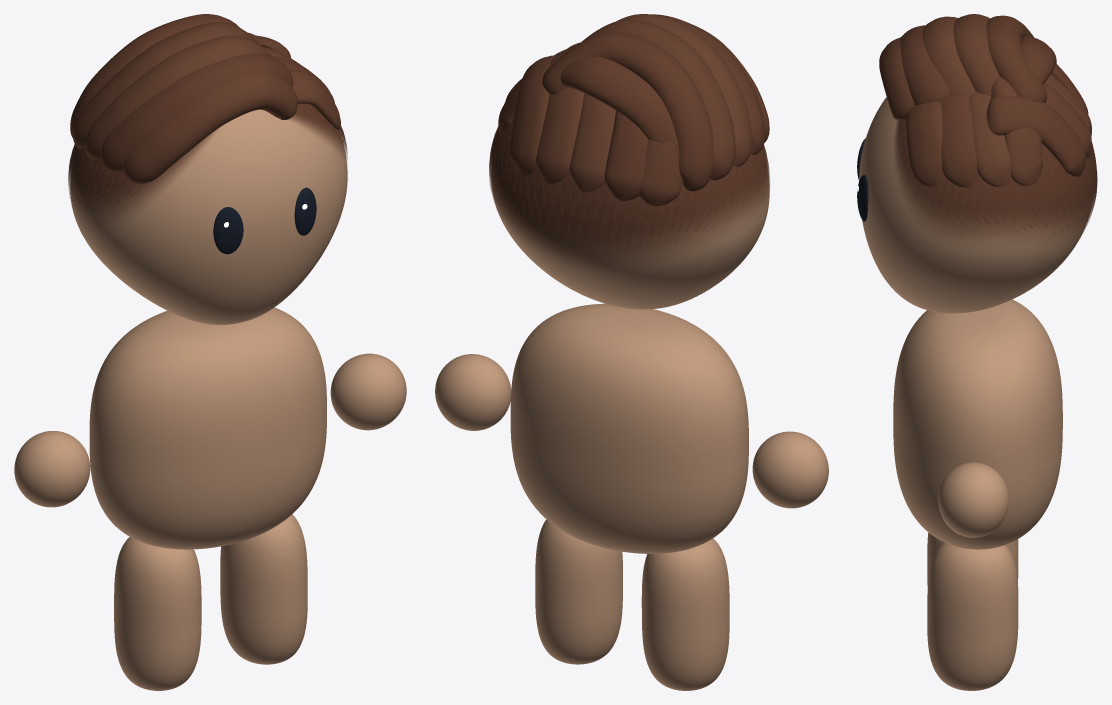
The model's file is Taper-skin2.glb.
3 views of the same model, side by side, from view 1: azimuth 30°, elevation 25°; view 2: azimuth 150°, elevation 25°; view 3: azimuth 270°, elevation 25° (orthographic). The views are drawn at different scales.
Parts seen in each view (by area): view 1: Skin / compact torso, Skin / soft oval head, Skin / leg -1, Skin / leg 1, Hair / Taper top 0, Hair / Taper short sides, Hair / Taper top 1, Hair / Taper top 2, Skin / hand 1, Skin / hand -1, Hair / Taper top 3, Hair / Taper top 4 (+4 smaller); view 2: Skin / compact torso, Hair / Taper short sides, Skin / soft oval head, Skin / leg -1, Skin / leg 1, Hair / Taper top 4, Hair / Taper rear bridge, Skin / hand -1, Skin / hand 1, Hair / Taper top 3, Hair / Taper fine direction, Hair / Taper top 2 (+6 smaller); view 3: Skin / compact torso, Skin / soft oval head, Hair / Taper short sides, Skin / leg 1, Skin / hand 1, Hair / Taper crown 4, Hair / Taper top 4, Hair / Taper short sweep 1, Hair / Taper short sweep 0, Hair / Taper top 3, Hair / Taper short sweep 2, Hair / Taper top 1 (+10 smaller).
Boxes of the visible parts, box(x1,y1,x2,y2) form: Skin / compact torso: box(89, 307, 326, 549); Skin / soft oval head: box(70, 109, 347, 324); Skin / leg -1: box(114, 537, 201, 690); Skin / leg 1: box(220, 514, 307, 664); Hair / Taper top 0: box(123, 73, 297, 184); Hair / Taper short sides: box(68, 103, 347, 221); Hair / Taper top 1: box(101, 53, 293, 171); Hair / Taper top 2: box(85, 35, 272, 159); Skin / hand 1: box(330, 353, 406, 430); Skin / hand -1: box(14, 431, 90, 507); Hair / Taper top 3: box(73, 22, 259, 148); Hair / Taper top 4: box(70, 14, 239, 138); Skin / compact torso: box(510, 303, 748, 553); Hair / Taper short sides: box(489, 119, 769, 265); Skin / soft oval head: box(491, 170, 769, 309); Skin / leg -1: box(641, 538, 729, 690); Skin / leg 1: box(535, 519, 622, 664); Hair / Taper top 4: box(542, 32, 713, 191); Hair / Taper rear bridge: box(560, 56, 679, 164); Skin / hand -1: box(752, 431, 828, 508); Skin / hand 1: box(435, 354, 511, 430); Hair / Taper top 3: box(582, 19, 735, 180); Hair / Taper fine direction: box(489, 124, 769, 248); Hair / Taper top 2: box(616, 14, 752, 166); Skin / compact torso: box(893, 299, 1062, 549); Skin / soft oval head: box(859, 97, 1091, 313); Hair / Taper short sides: box(894, 120, 1097, 243); Skin / leg 1: box(927, 542, 1018, 690); Skin / hand 1: box(938, 462, 1008, 537); Hair / Taper crown 4: box(986, 96, 1085, 176); Hair / Taper top 4: box(986, 15, 1047, 102); Hair / Taper short sweep 1: box(940, 95, 979, 187); Hair / Taper short sweep 0: box(906, 101, 945, 186); Hair / Taper top 3: box(953, 14, 999, 96); Hair / Taper short sweep 2: box(969, 91, 1011, 186); Hair / Taper top 1: box(900, 25, 949, 105).
Size of the model in its own units: 1.49 by 2.4 by 0.8289.
